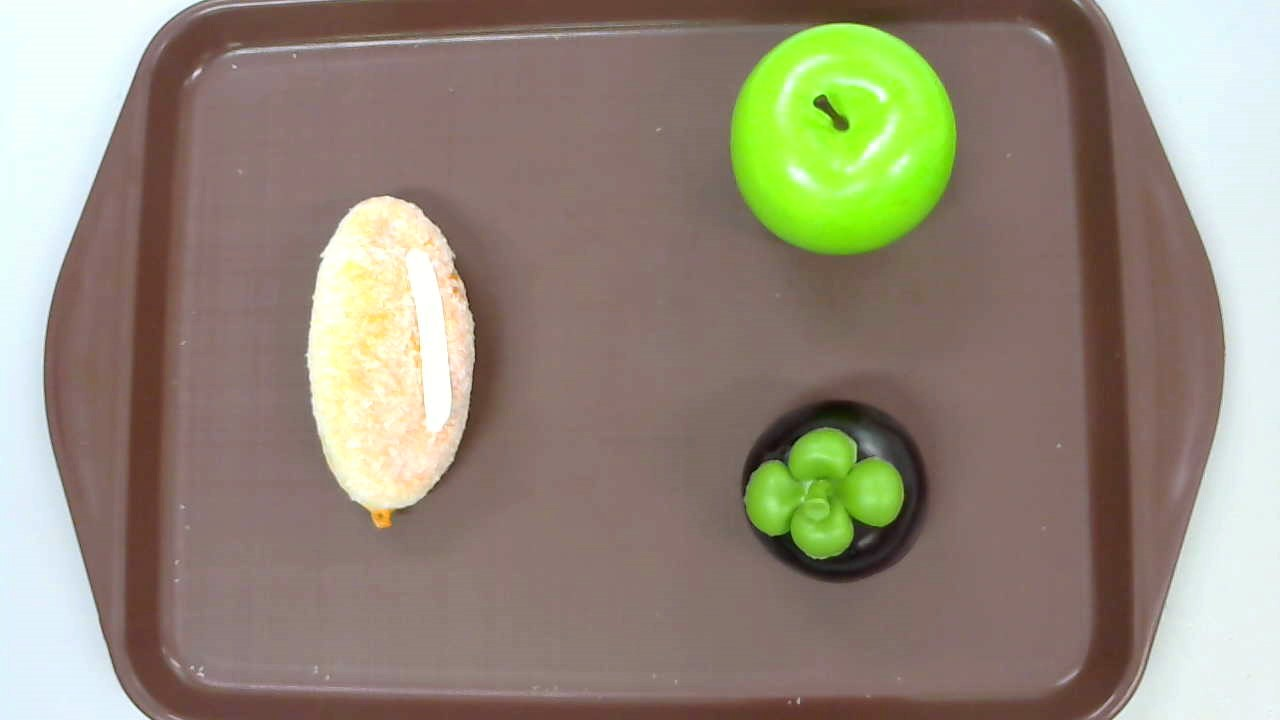coconut: (306, 195, 478, 529)
green apple: (729, 22, 956, 258)
mangosteen: (741, 399, 928, 581)
